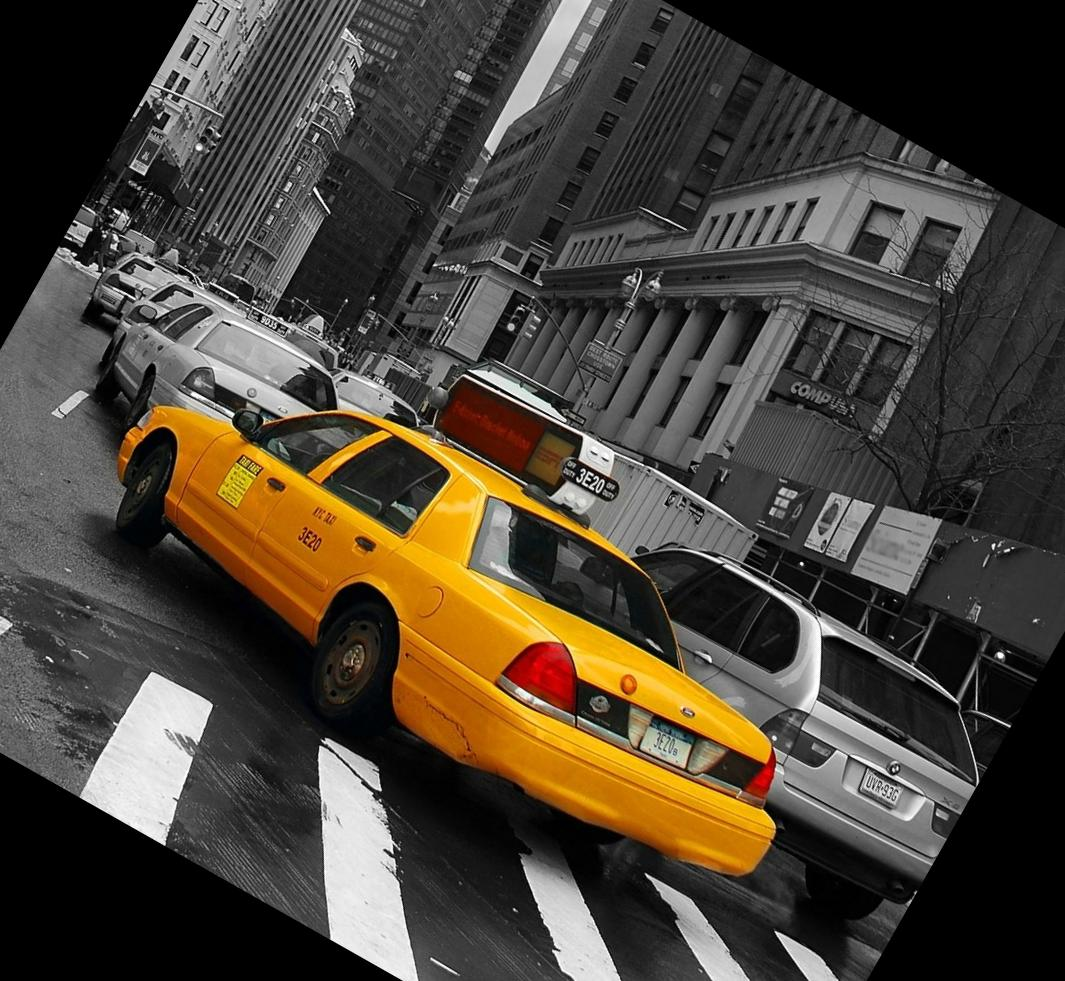taxi: (87, 385, 771, 914)
